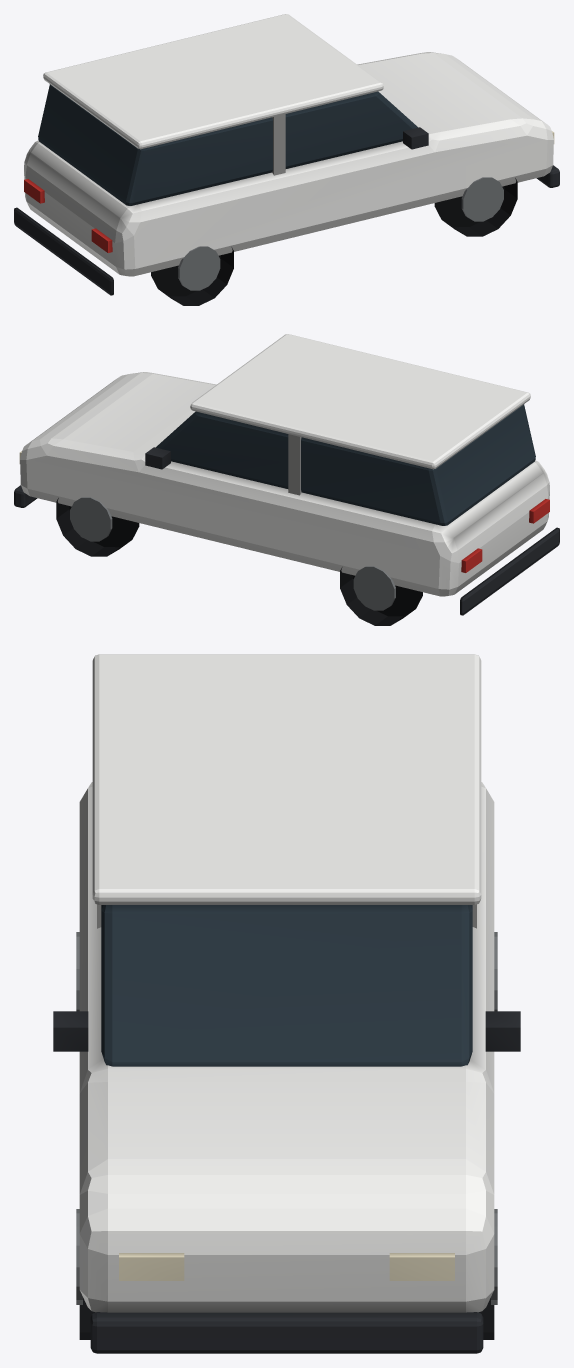
Rendered from camioneta-DisHGfb3.glb.
3 renders of one model, top to bottom at view 1: azimuth 30°, elevation 25°; view 2: azimuth 150°, elevation 25°; view 3: azimuth 270°, elevation 25°, orthographic. The views are drawn at different scales.
Visible parts, largest first — view 1: carroceria, pieza, vidrio, pieza.004, rueda.004, rueda, rueda.001, rueda.005, pieza.001, pieza.005; view 2: carroceria, pieza, vidrio, pieza.004, rueda.006, rueda.002, rueda.003, rueda.007, pieza.002, pieza.006; view 3: carroceria, pieza, vidrio, pieza.003, pieza.007, pieza.009, pieza.005, pieza.006.
Part boxes in pixels (box(x1,y1,x2,y2)): carroceria: box(24, 52, 553, 276); pieza: box(43, 14, 383, 149); vidrio: box(38, 84, 417, 205); pieza.004: box(14, 207, 113, 295); rueda.004: box(434, 178, 517, 236); rueda: box(151, 247, 233, 305); rueda.001: box(178, 246, 220, 290); rueda.005: box(461, 177, 503, 221); pieza.001: box(272, 114, 285, 175); pieza.005: box(403, 127, 428, 149); carroceria: box(20, 372, 549, 596); pieza: box(190, 334, 530, 469); vidrio: box(156, 404, 535, 525); pieza.004: box(460, 527, 559, 615); rueda.006: box(56, 498, 139, 556); rueda.002: box(340, 567, 422, 625); rueda.003: box(353, 566, 395, 610); rueda.007: box(70, 497, 112, 541); pieza.002: box(288, 434, 301, 495); pieza.006: box(145, 447, 170, 469); carroceria: box(79, 782, 494, 1312); pieza: box(92, 654, 481, 904); vidrio: box(101, 905, 472, 1066); pieza.003: box(90, 1312, 483, 1353); pieza.007: box(119, 1253, 184, 1280); pieza.009: box(389, 1253, 454, 1280); pieza.005: box(53, 1011, 88, 1051); pieza.006: box(485, 1011, 520, 1051).
Size of the model in its own units: 4.76 by 1.76 by 2.14.
